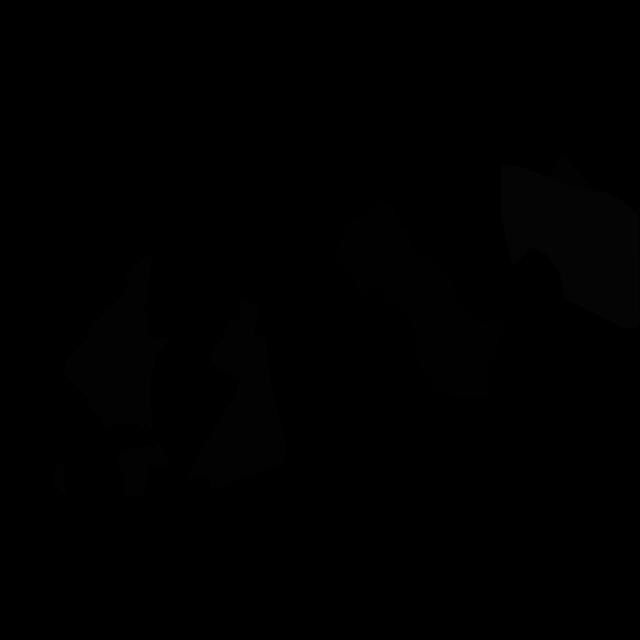cardboard: (62, 254, 168, 437), (187, 300, 287, 489), (118, 441, 170, 499), (548, 154, 595, 191), (54, 463, 66, 497)
rigid_plastic: (338, 201, 503, 397)
soft_plastic: (500, 165, 640, 328)
